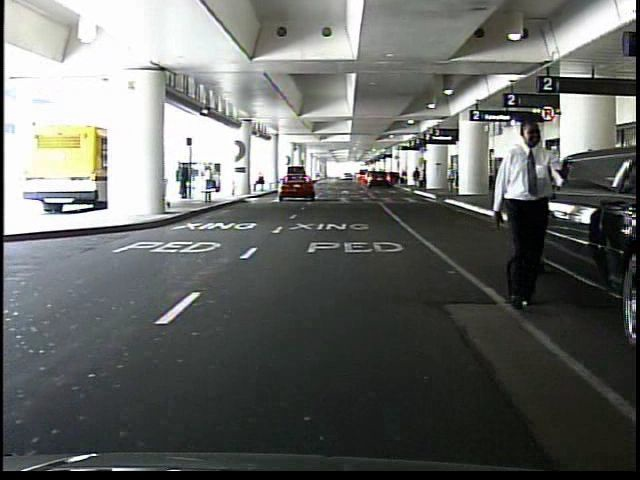person: (482, 112, 568, 315), (177, 161, 192, 201), (444, 167, 457, 194), (254, 171, 267, 194), (412, 167, 422, 190)
